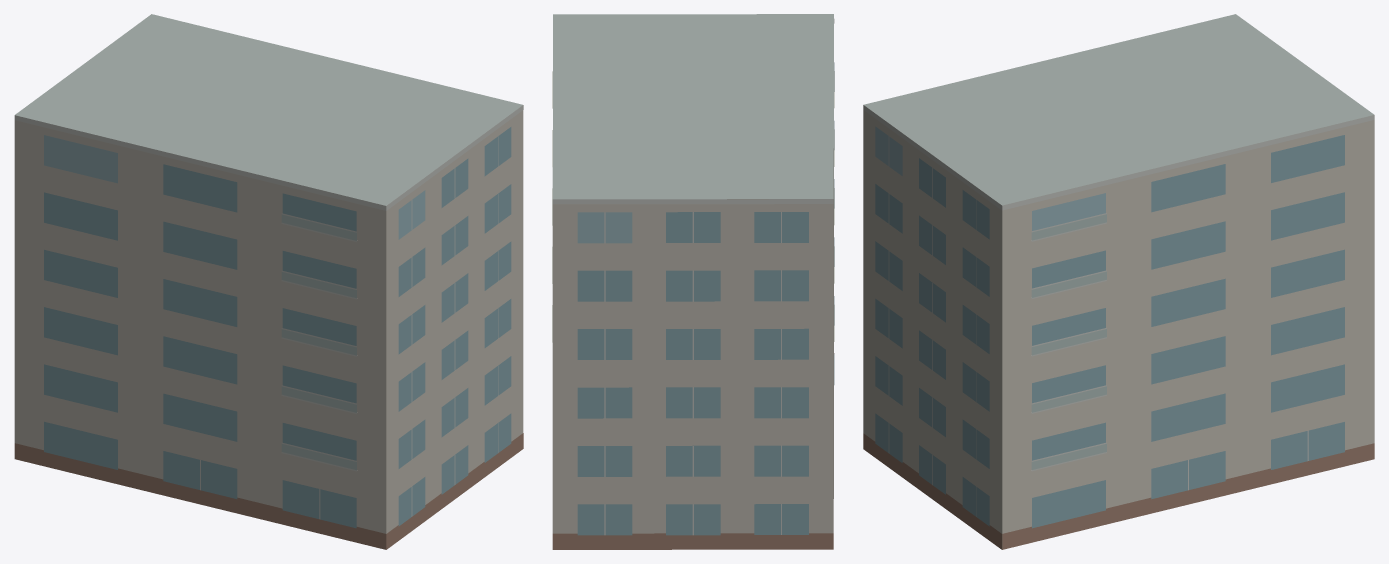
File: survey-upis-32537951.glb
The picture shows the model from 3 angles, left to right: view 1: azimuth 30°, elevation 25°; view 2: azimuth 150°, elevation 25°; view 3: azimuth 270°, elevation 25°; orthographic projection.
Visible parts, largest first — view 1: survey-upis-32537951.tmp; view 2: survey-upis-32537951.tmp; view 3: survey-upis-32537951.tmp.
Part boxes in pixels (<box>): survey-upis-32537951.tmp: <box>14,14,523,549</box>; survey-upis-32537951.tmp: <box>552,14,834,549</box>; survey-upis-32537951.tmp: <box>863,14,1374,549</box>.
Bounding box in the file's own units: 20.05 × 16.8 × 22.62.
